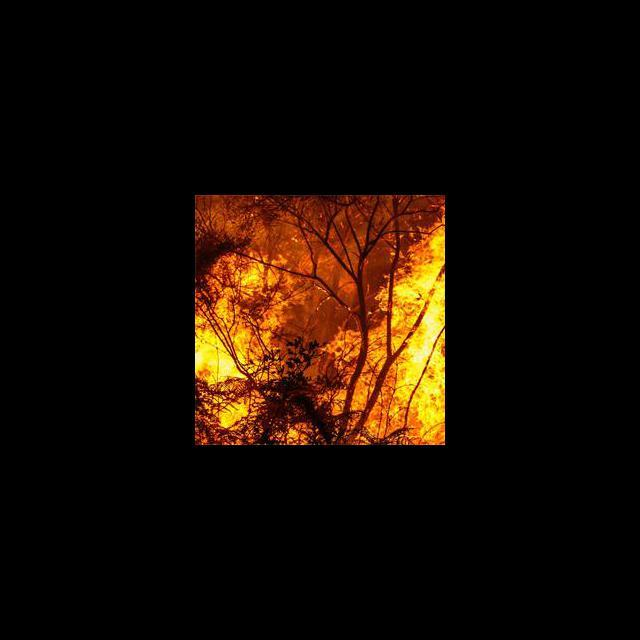Fire: (332, 202, 445, 444), (196, 252, 299, 435)
